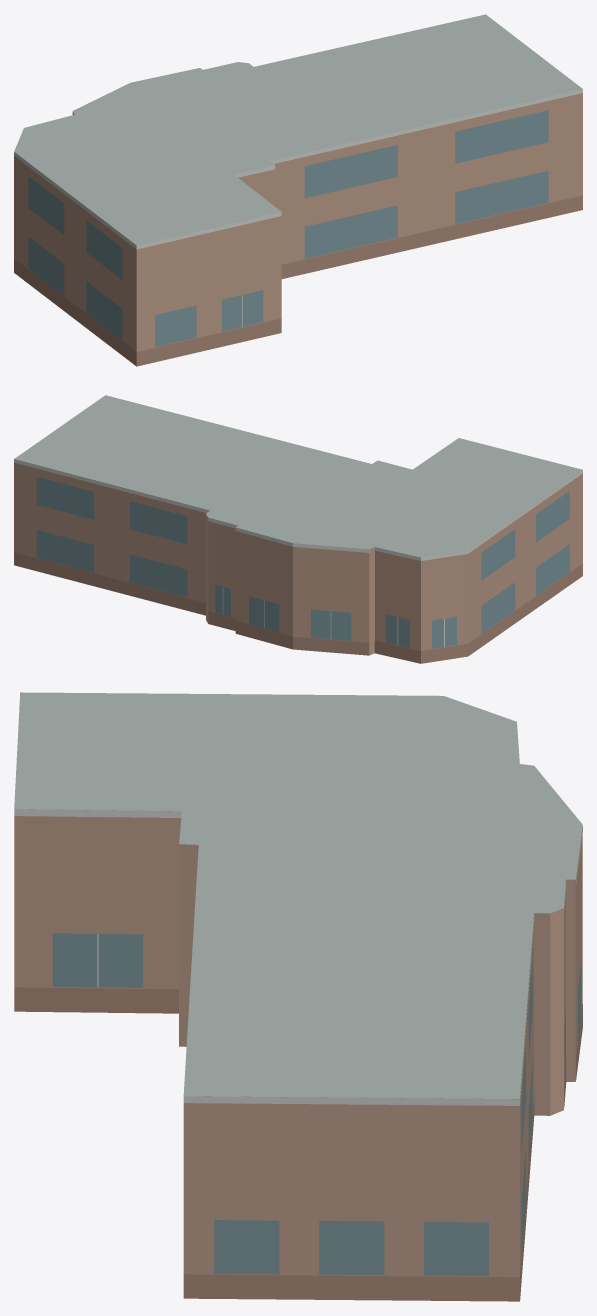
Rendered from survey-upis-32681373.glb.
The picture shows the model from 3 angles, top to bottom: view 1: azimuth 30°, elevation 25°; view 2: azimuth 150°, elevation 25°; view 3: azimuth 270°, elevation 25°; orthographic projection. The views are drawn at different scales.
Parts seen in each view (by area): view 1: survey-upis-32681373.tmp; view 2: survey-upis-32681373.tmp; view 3: survey-upis-32681373.tmp.
Part boxes in pixels (x1=…): survey-upis-32681373.tmp: x1=14, y1=14, x2=582, y2=366; survey-upis-32681373.tmp: x1=14, y1=395, x2=582, y2=663; survey-upis-32681373.tmp: x1=14, y1=692, x2=582, y2=1301.
Size of the model in its own units: 31.04 by 7.2 by 18.35.
